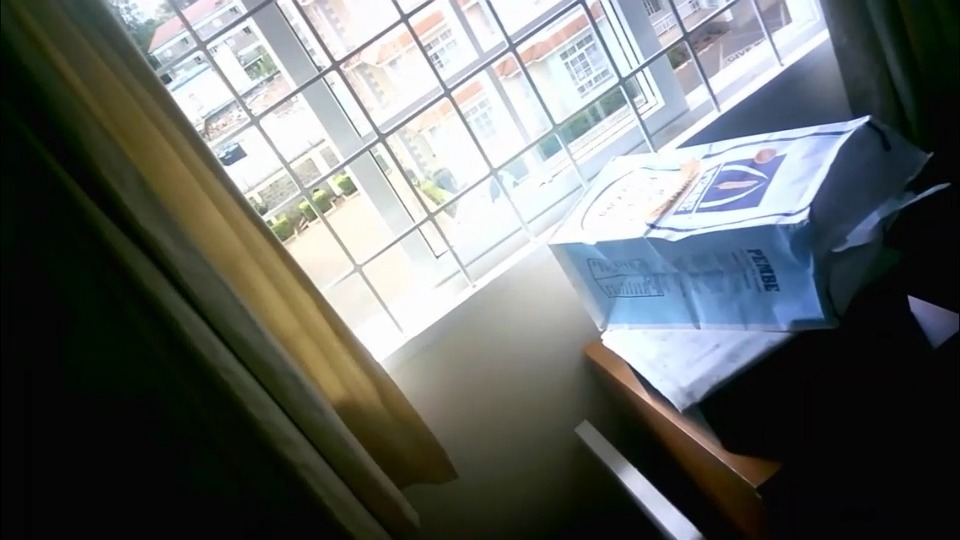wheat_flour_blue_label: (547, 114, 943, 331)
